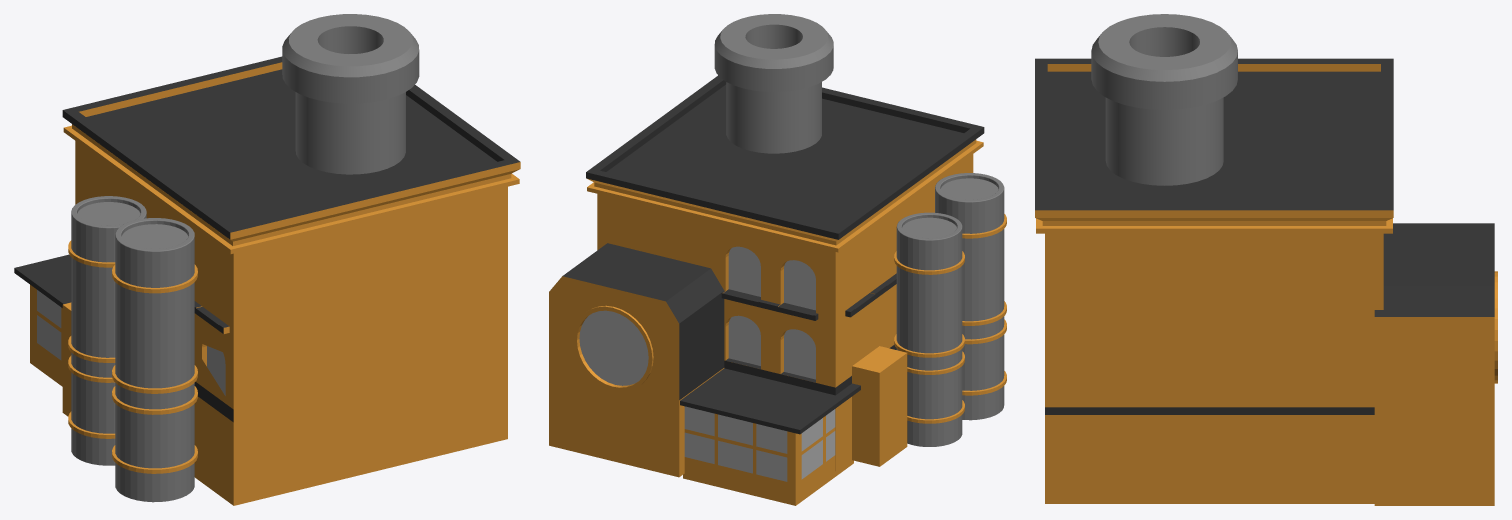
Rendered from Townhall.fbx.
3 renders of one model, left to right at view 1: azimuth 30°, elevation 25°; view 2: azimuth 150°, elevation 25°; view 3: azimuth 270°, elevation 25°, orthographic. The views are drawn at different scales.
Visible parts, largest first — view 1: Cube.002; view 2: Cube.002; view 3: Cube.002.
Part boxes in pixels (x1=…): Cube.002: x1=14, y1=14, x2=520, y2=505; Cube.002: x1=549, y1=14, x2=1006, y2=505; Cube.002: x1=1035, y1=14, x2=1497, y2=505.
Bounding box in the file's own units: 1880 × 1975 × 1959.
